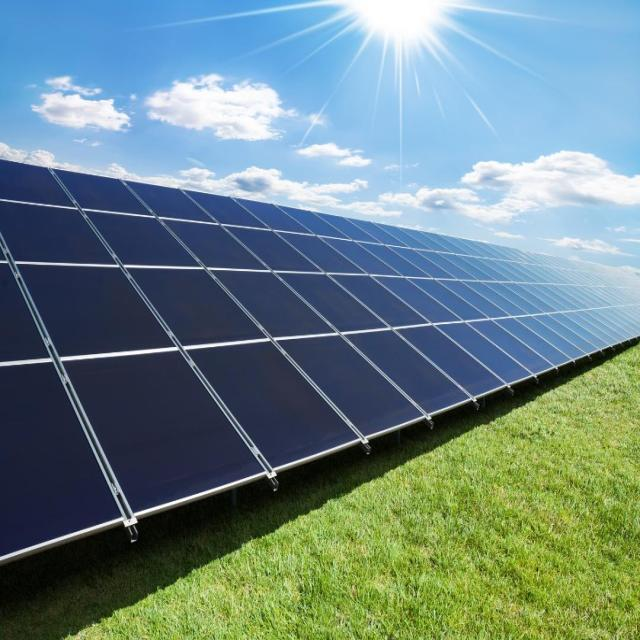clean-solar-panel: (1, 161, 640, 562)
